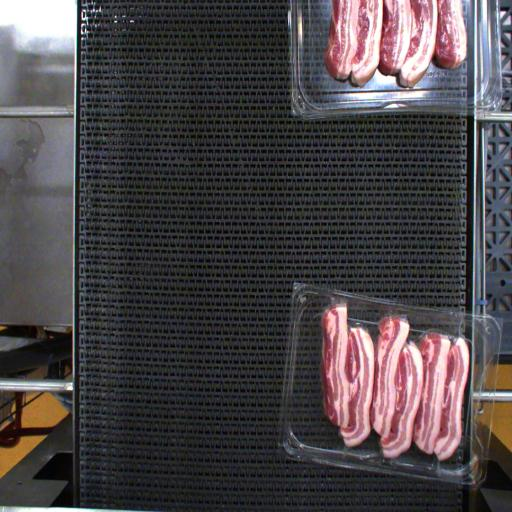packaging-error: (337, 435, 355, 466), (429, 461, 447, 480)
unsealed: (317, 298, 482, 367)
